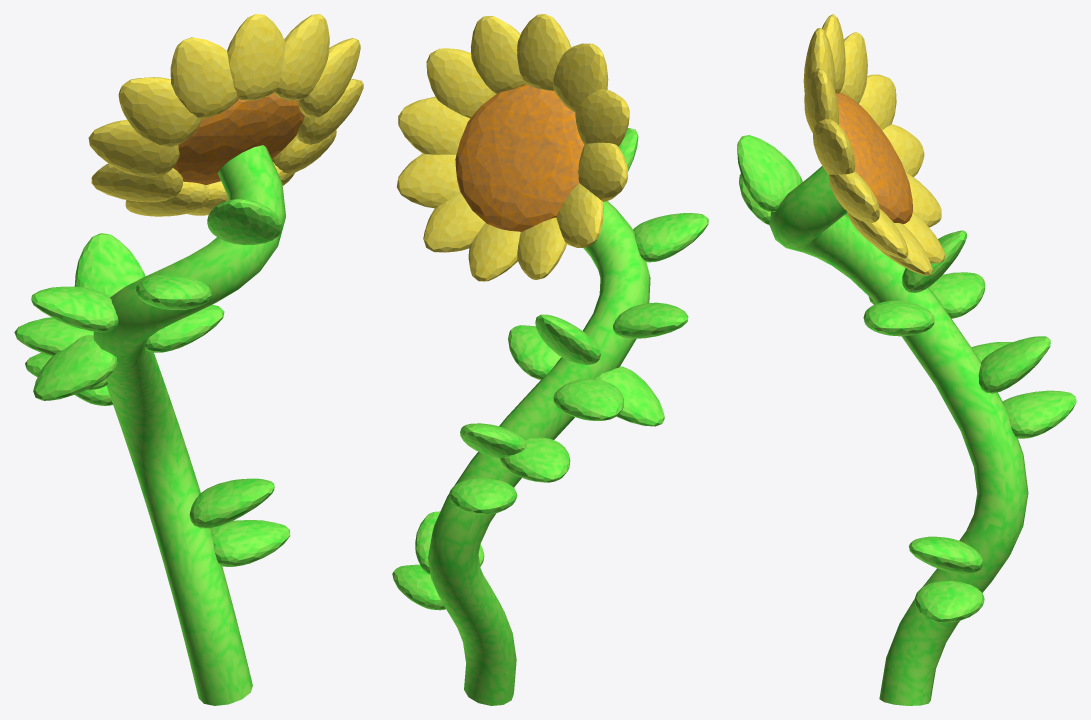
Rendered from flower.glb.
3 views of the same model, side by side, from view 1: azimuth 30°, elevation 25°; view 2: azimuth 150°, elevation 25°; view 3: azimuth 270°, elevation 25° (orthographic). The views are drawn at different scales.
Parts seen in each view (by area): view 1: Flower; view 2: Flower; view 3: Flower.
Part boxes in pixels (x1,y1,x2,y2): Flower: (14,14,363,705); Flower: (392,14,708,705); Flower: (737,14,1076,705).
Size of the model in its own units: 1.33 by 2.85 by 1.31.
3 materials, 3 textured.
